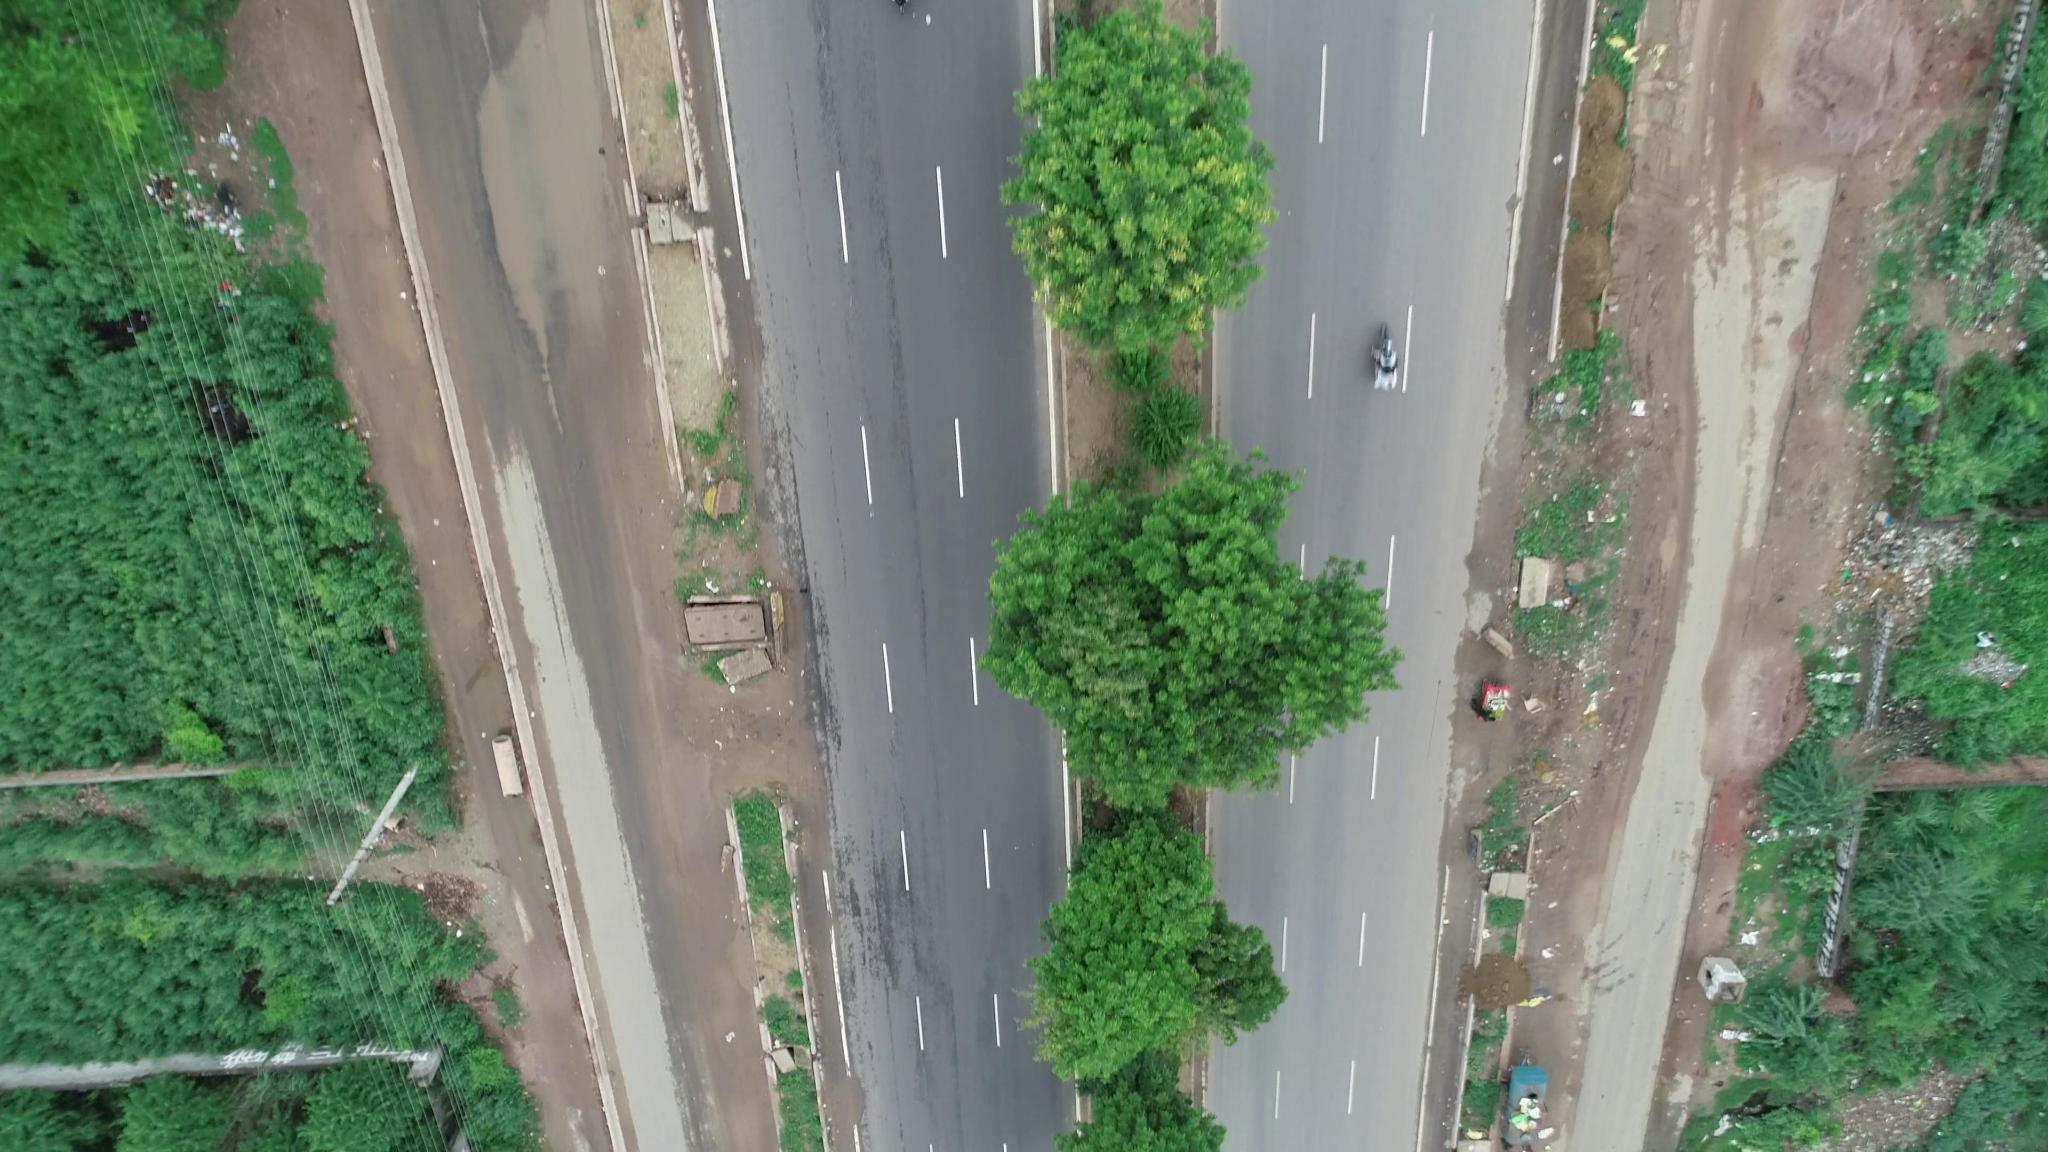Muddy_road: (1582, 364, 1709, 819), (1625, 11, 1815, 301), (581, 471, 685, 682)
Ravelling: (861, 211, 928, 522), (843, 858, 921, 1017)
Waterlogging: (439, 53, 619, 360)
